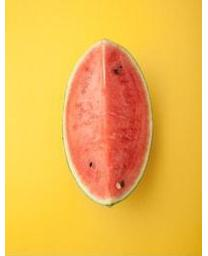watermelon: (62, 37, 151, 208)
